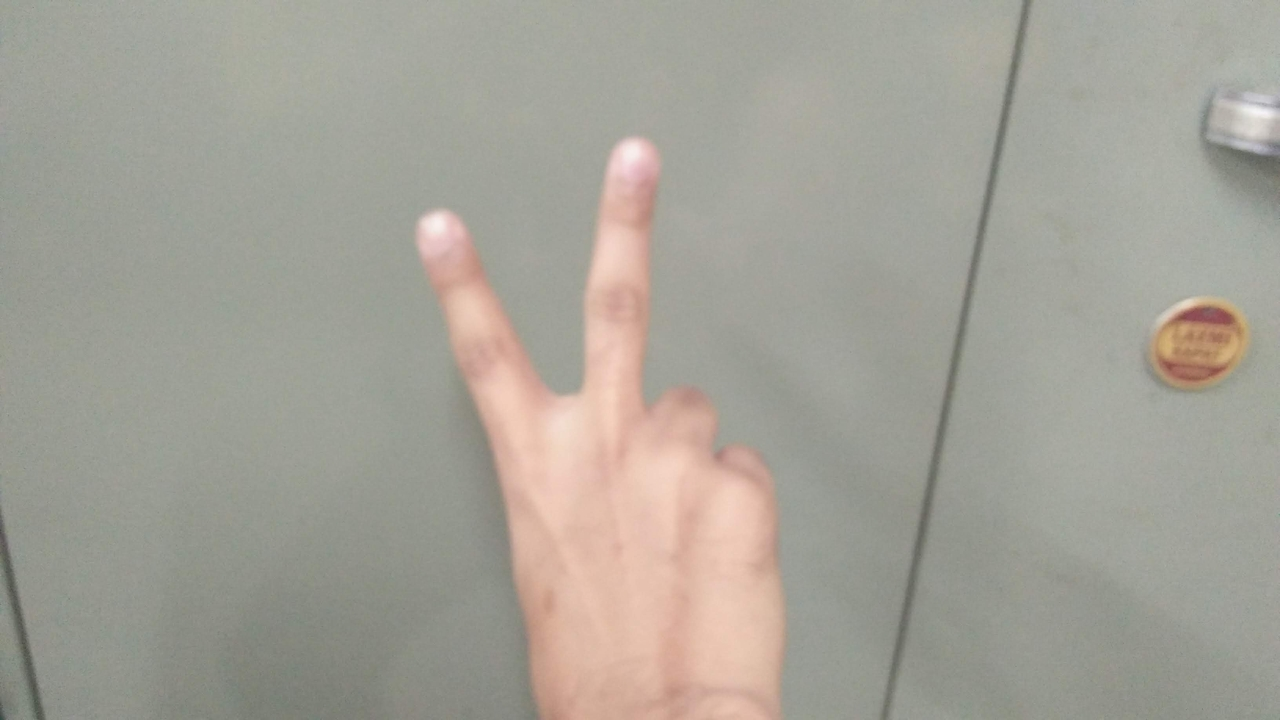fingertip: (406, 200, 474, 268), (598, 132, 664, 192)
